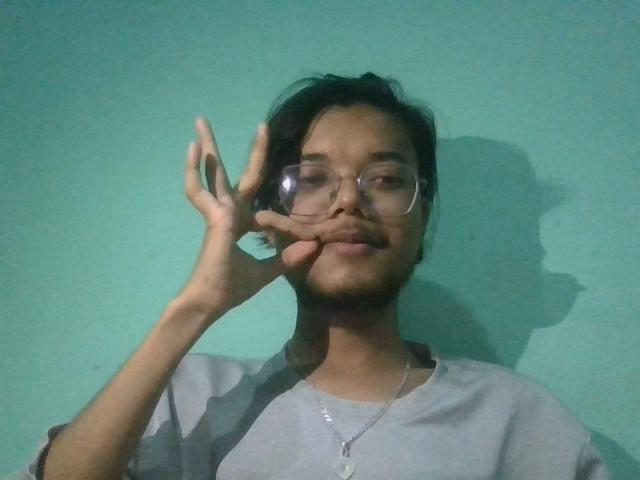Cat: (163, 107, 324, 344)
